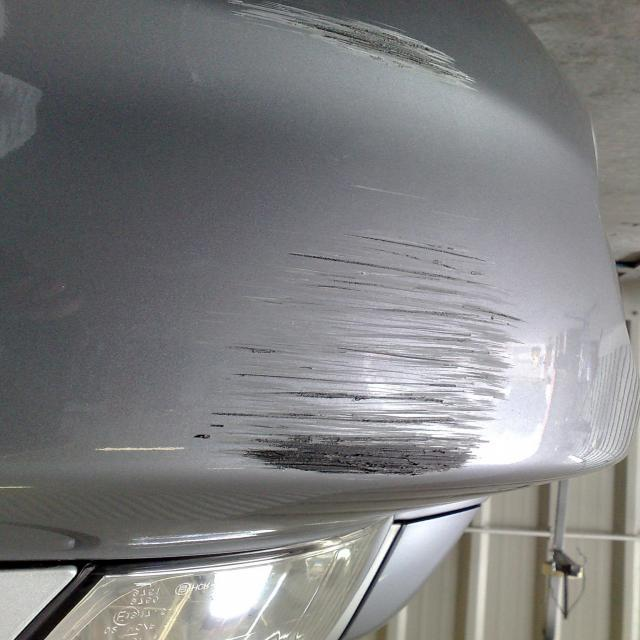scratch: (198, 187, 516, 505), (130, 0, 508, 106)
